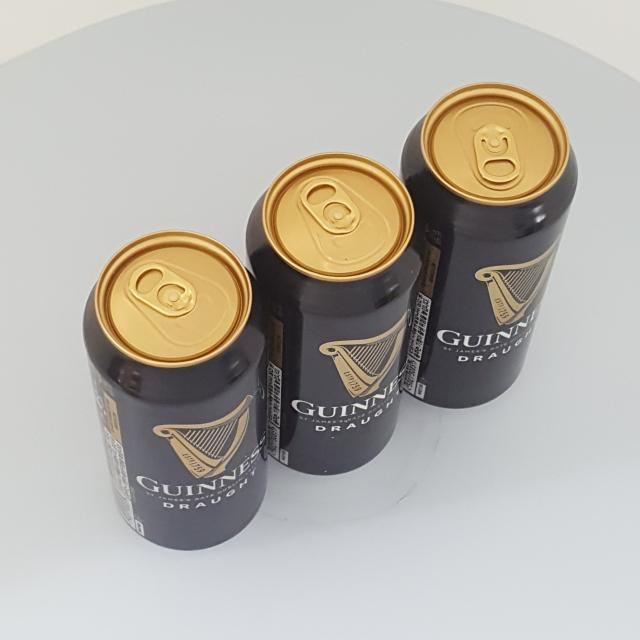beer-can: (82, 229, 266, 550), (398, 81, 578, 408), (245, 152, 425, 476)
